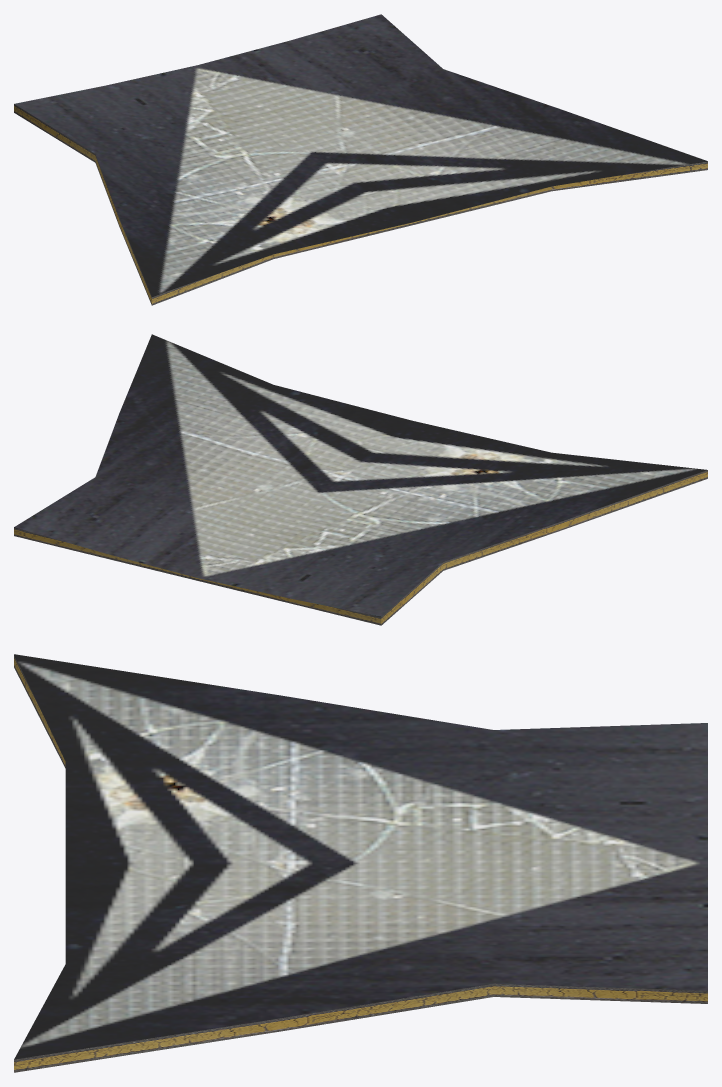
File: BoostPlatform.fbx
3 renders of one model, top to bottom at view 1: azimuth 30°, elevation 25°; view 2: azimuth 150°, elevation 25°; view 3: azimuth 270°, elevation 25°, orthographic. The views are drawn at different scales.
Parts seen in each view (by area): view 1: BoostPlatform; view 2: BoostPlatform; view 3: BoostPlatform.
Boxes of the visible parts, <box> form: BoostPlatform: <box>14,14,707,305</box>; BoostPlatform: <box>14,334,707,625</box>; BoostPlatform: <box>14,654,707,1072</box>.
Size of the model in its own units: 3.44 by 0.0522 by 2.49.
